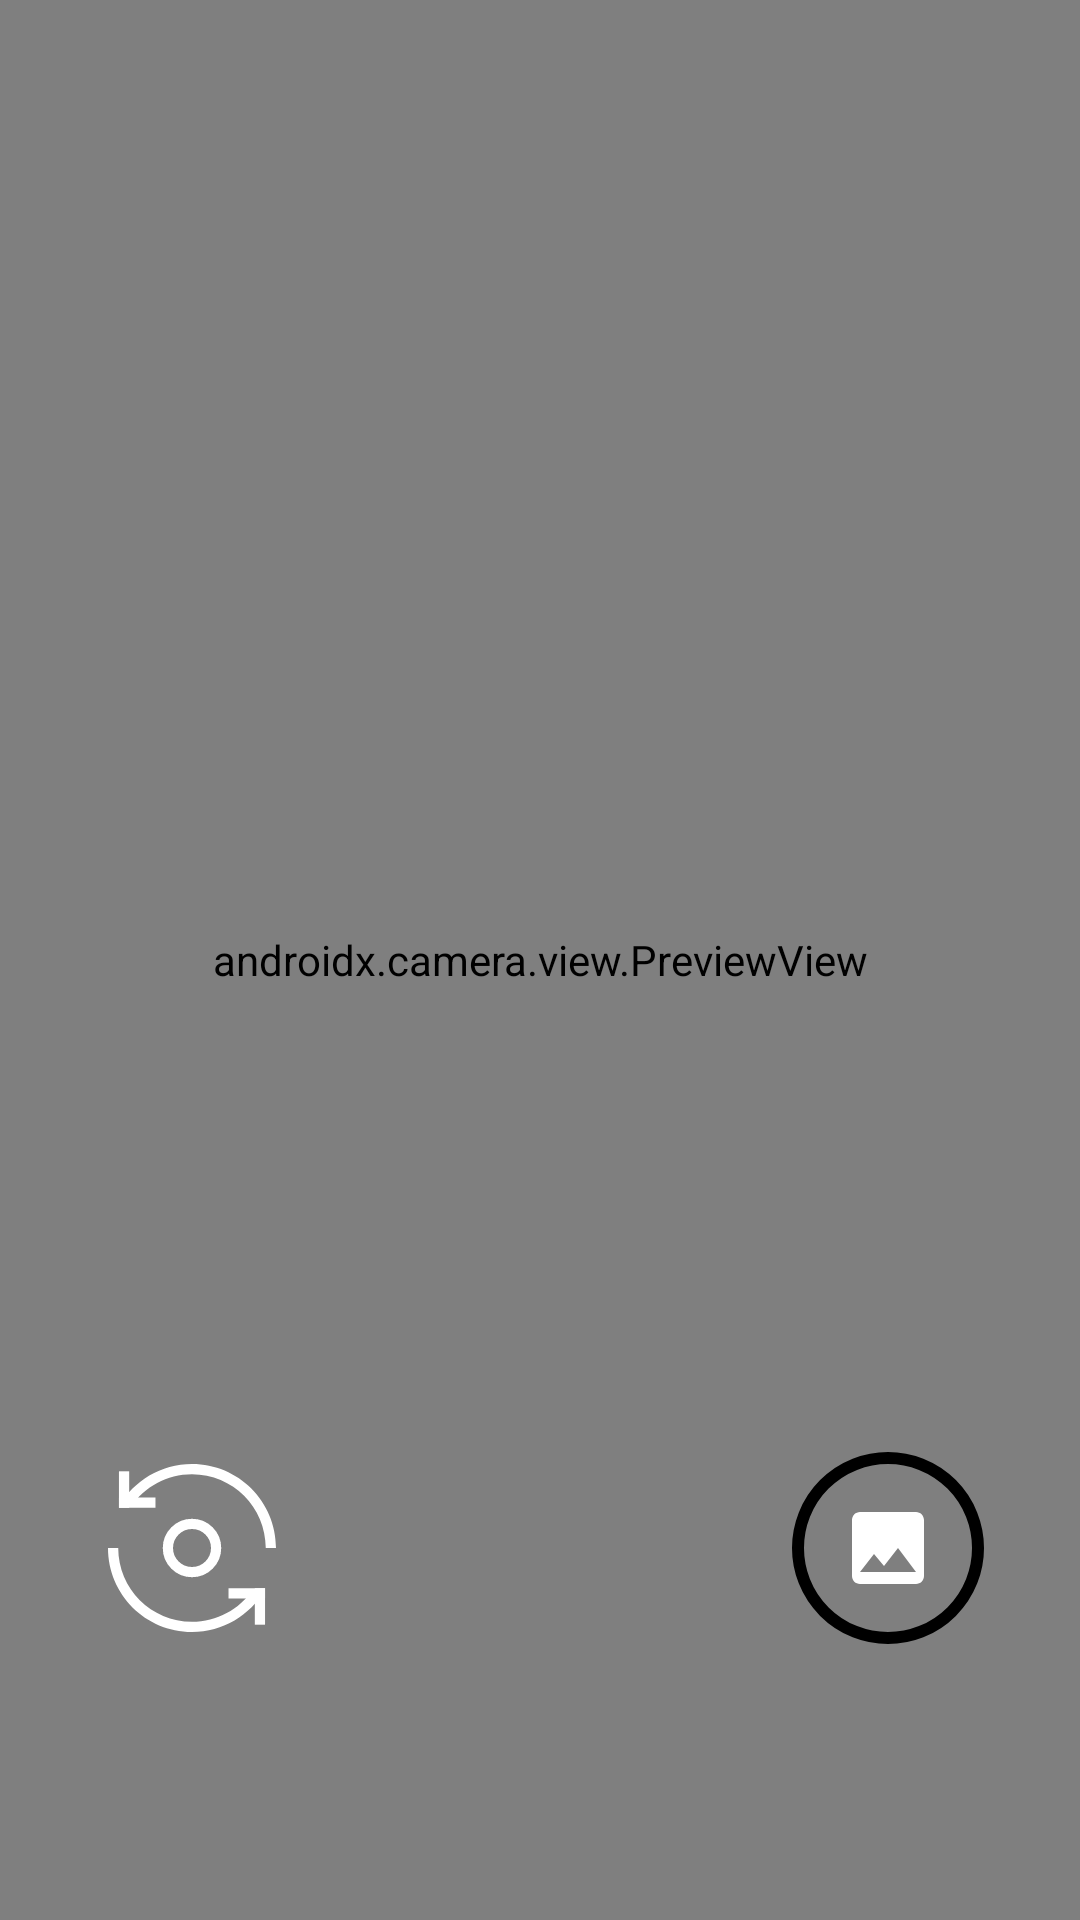

Icons on this 1080x1920 Android screen, each with its box as box=[x1, y1, x2, y2]:
Gallery: box=[792, 1452, 984, 1644]
Switch Camera: box=[108, 1464, 276, 1632]
